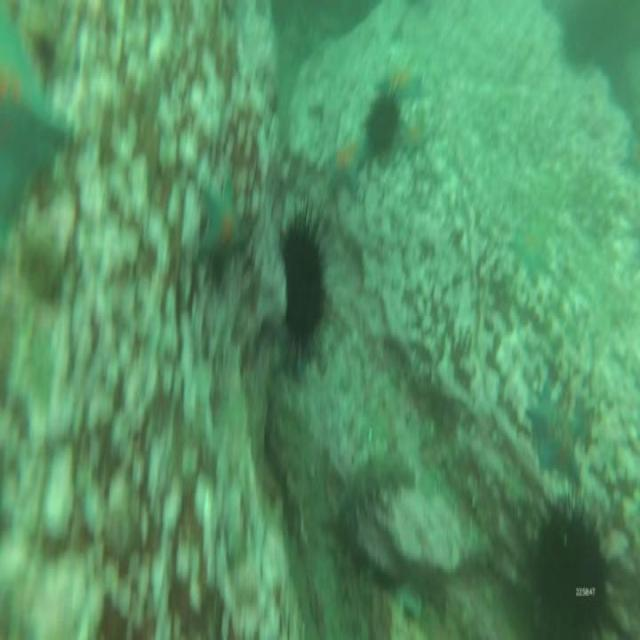echinus: (536, 502, 604, 638), (280, 223, 324, 340), (366, 98, 396, 150)
holothurian: (338, 452, 413, 507)
starfish: (526, 384, 582, 484), (199, 185, 245, 264), (327, 139, 364, 194), (511, 225, 546, 278), (379, 64, 422, 100), (399, 112, 427, 153)
